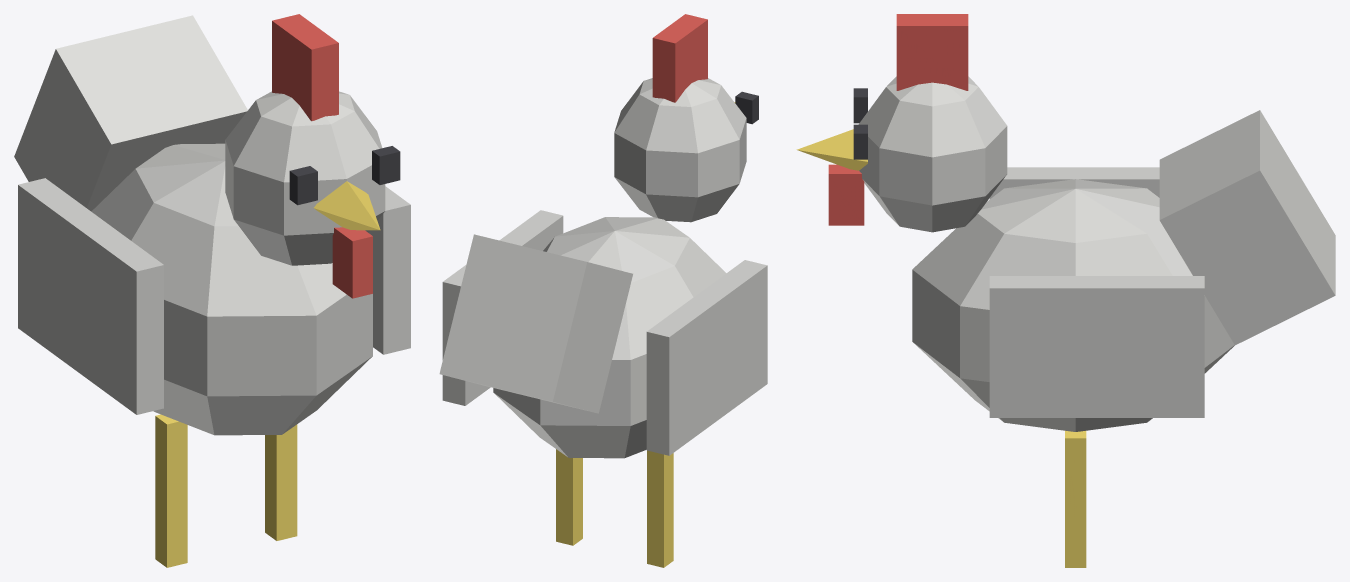
The model's file is chicken.glb.
3 renders of one model, left to right at view 1: azimuth 30°, elevation 25°; view 2: azimuth 150°, elevation 25°; view 3: azimuth 270°, elevation 25°, orthographic. The views are drawn at different scales.
Parts seen in each view (by area): view 1: chicken; view 2: chicken; view 3: chicken.
Part boxes in pixels (bbox=[...]): chicken: bbox=[14, 14, 410, 567]; chicken: bbox=[439, 14, 767, 567]; chicken: bbox=[796, 14, 1335, 567].
Bounding box in the file's own units: 0.4 × 0.8 × 0.7529.
